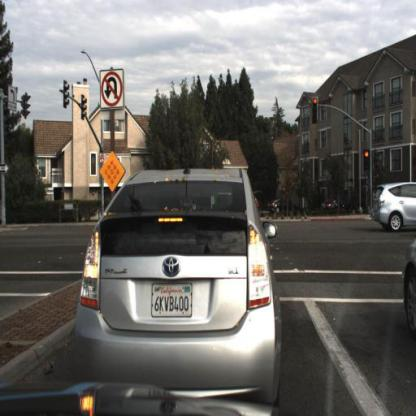car: (55, 155, 283, 410), (372, 180, 416, 234), (400, 225, 416, 343), (317, 196, 352, 221)
trafficLight-Red: (361, 145, 373, 176), (310, 93, 321, 126)
